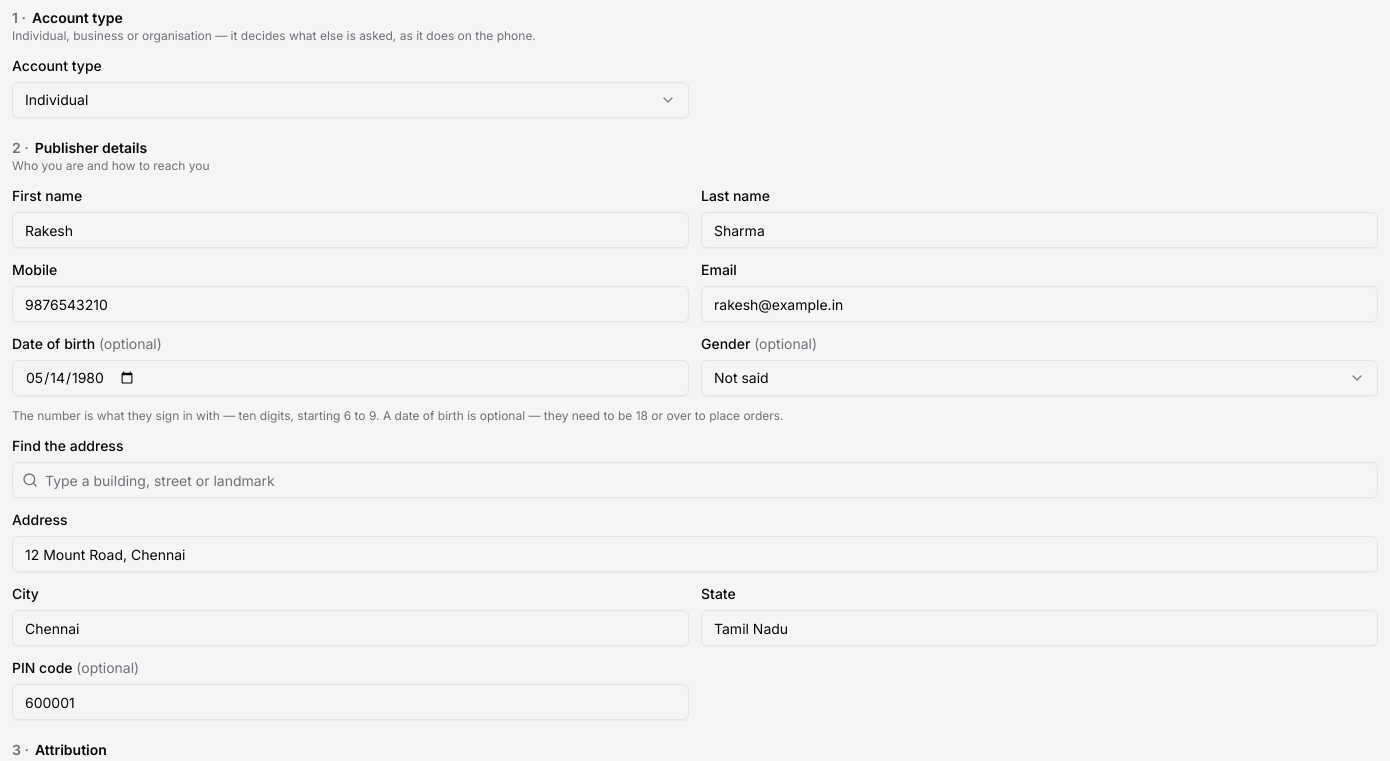
Test: create › a pick never clears a box the place does not name, and fills the PIN only when it is six digits
This screenshot has width=1390, height=761.
Step 1. Type "Mount Road" into the dropdown labelled "Find the address" → (695, 480), box [12,462,1378,498]
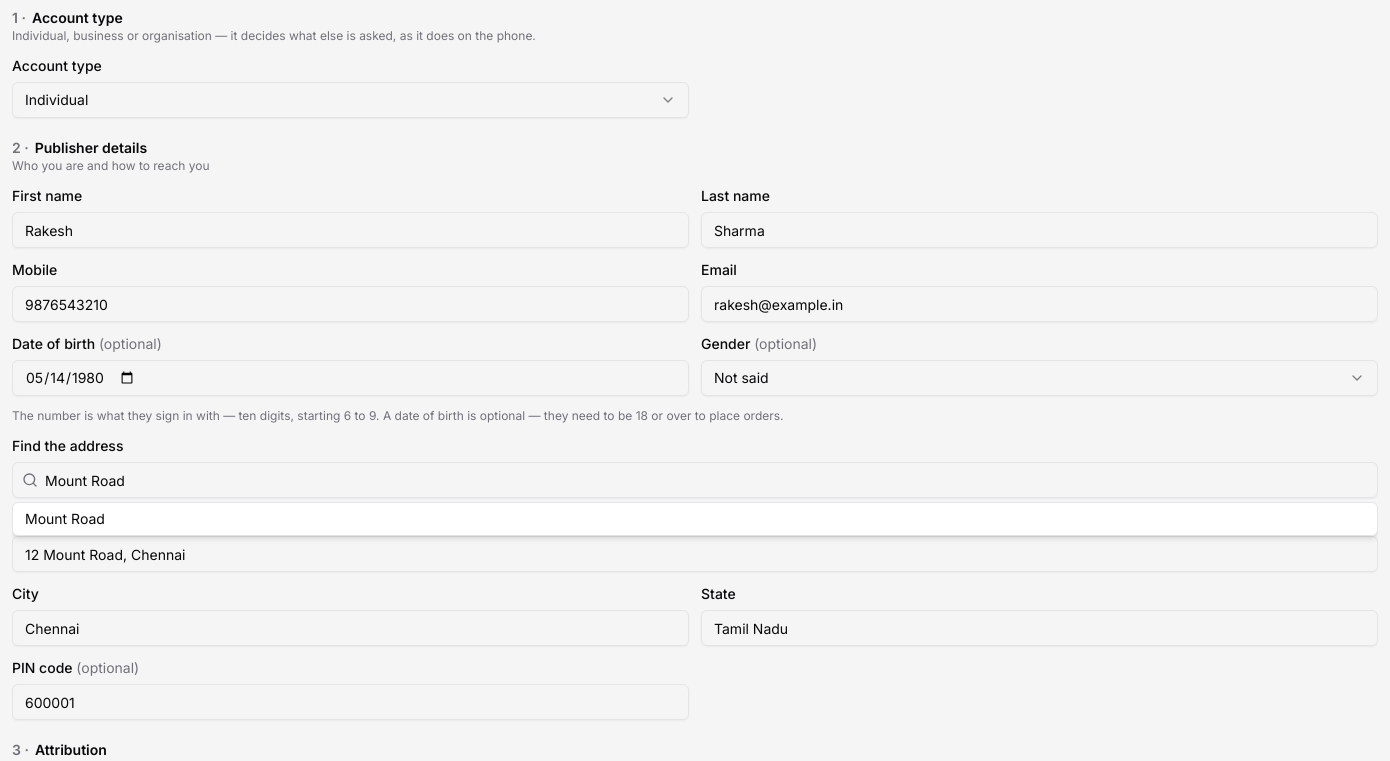
Step 2. Click the option "Mount Road" → (65, 518), box [13,503,1377,535]
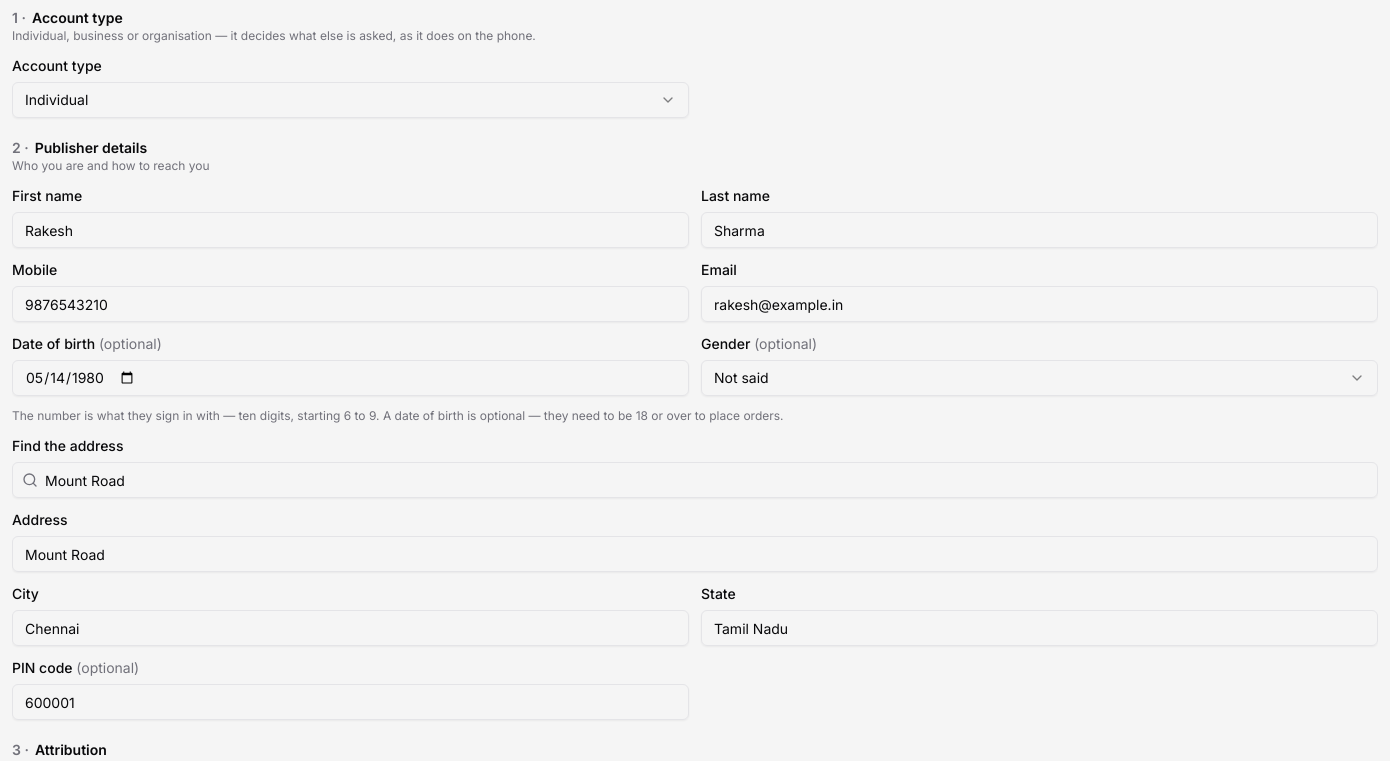
Check: the dropdown labelled "City" holds "Chennai", box [12,610,689,646]
Check: the field labelled "Address" holds "Mount Road", box [12,536,1378,572]
